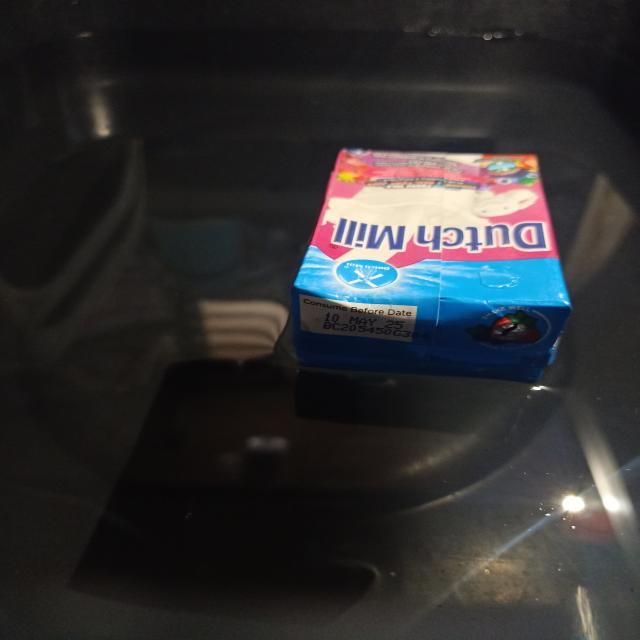Cardboard Box: (291, 149, 571, 383)
